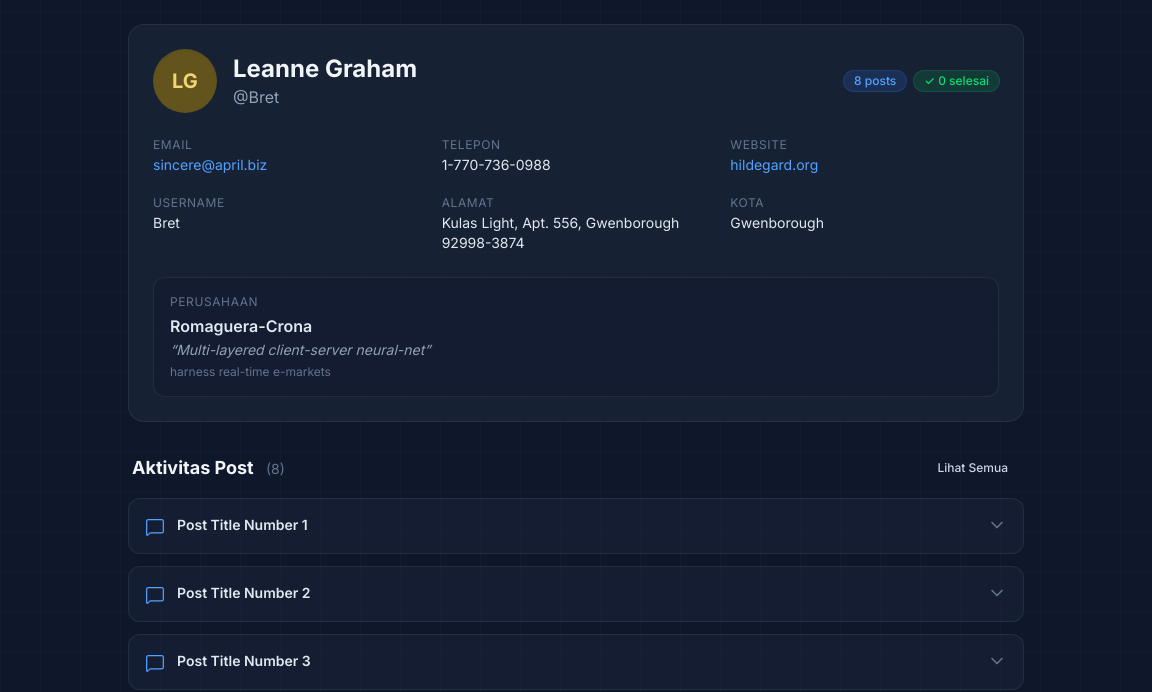
Test: UserDetailContainer — posts section › shows all posts after clicking 'Lihat semua' button
Click the button "Lihat Semua" at (973, 468), box left=925, top=454, right=1020, bottom=482
(page scrolled)
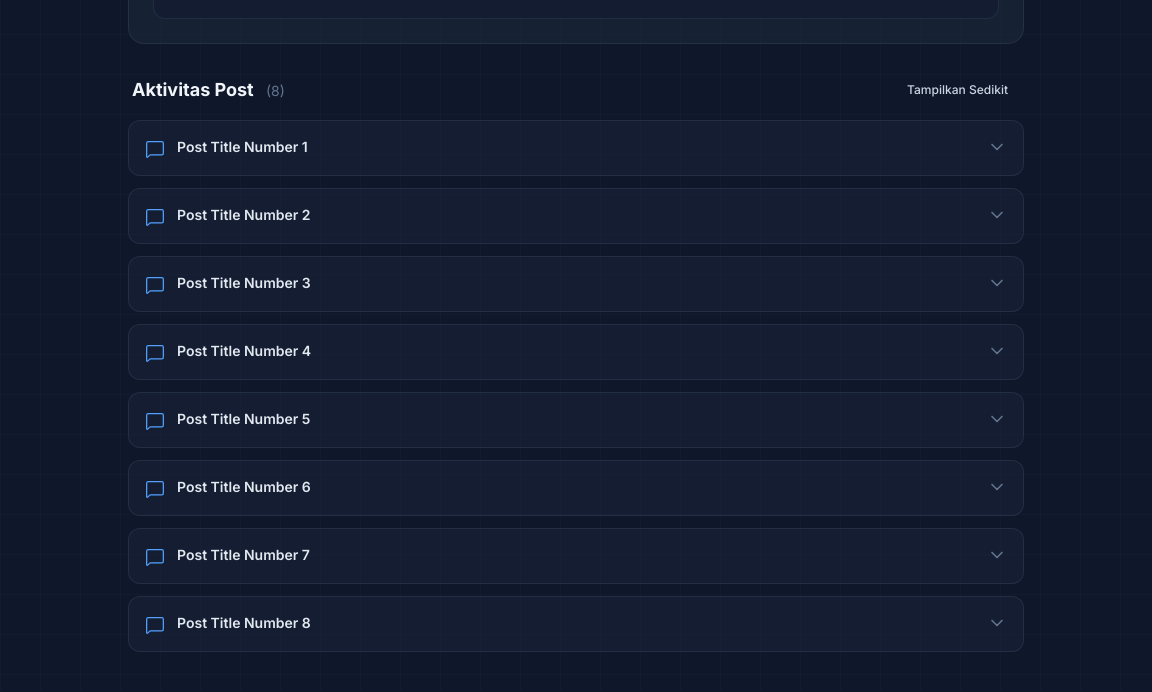
Expected: the text "Post title number 6" is shown, left=177, top=478, right=311, bottom=495
